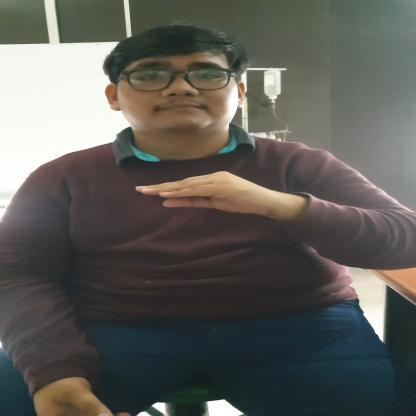Pagi: (132, 166, 304, 221)
